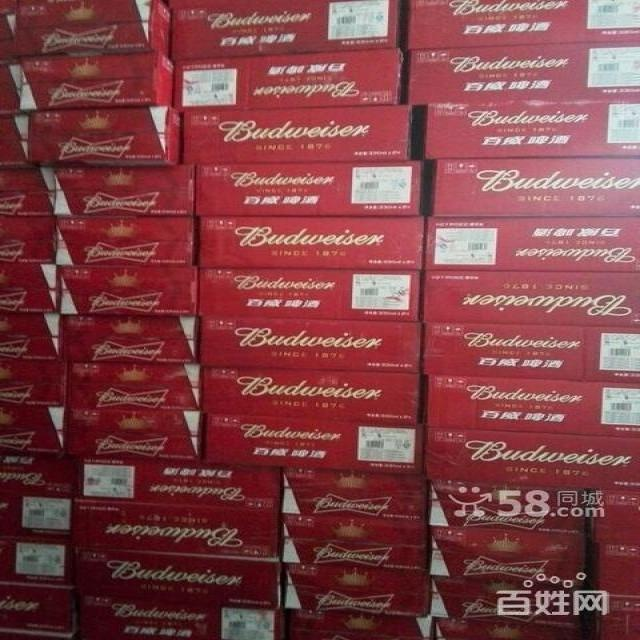box: (172, 49, 401, 111), (169, 1, 399, 62), (425, 425, 640, 490), (203, 415, 428, 476), (181, 104, 411, 163), (428, 375, 640, 439), (72, 544, 281, 608), (421, 324, 640, 384), (200, 316, 421, 375), (196, 266, 424, 323), (408, 47, 640, 103), (201, 367, 421, 426), (423, 215, 640, 274), (193, 161, 425, 216), (71, 497, 280, 558), (423, 270, 640, 328), (429, 157, 640, 216), (423, 102, 640, 158), (196, 216, 428, 268), (72, 457, 283, 510), (408, 0, 640, 48), (75, 591, 284, 640), (279, 510, 433, 574), (29, 105, 181, 165), (431, 528, 584, 587), (16, 1, 169, 59), (431, 479, 584, 536), (17, 55, 173, 110), (280, 468, 429, 524), (284, 562, 432, 617), (67, 406, 203, 463), (53, 163, 197, 216), (56, 261, 197, 315), (431, 575, 580, 626), (61, 309, 200, 363), (53, 216, 196, 265), (67, 363, 203, 411), (285, 609, 432, 640), (1, 582, 76, 638), (0, 534, 75, 583), (435, 618, 583, 640), (0, 454, 73, 497), (0, 497, 71, 538), (0, 260, 57, 311), (1, 310, 60, 358), (0, 215, 56, 263), (0, 167, 53, 216), (595, 489, 640, 545), (600, 543, 640, 594), (596, 594, 640, 640), (0, 113, 28, 169), (0, 62, 19, 114)
